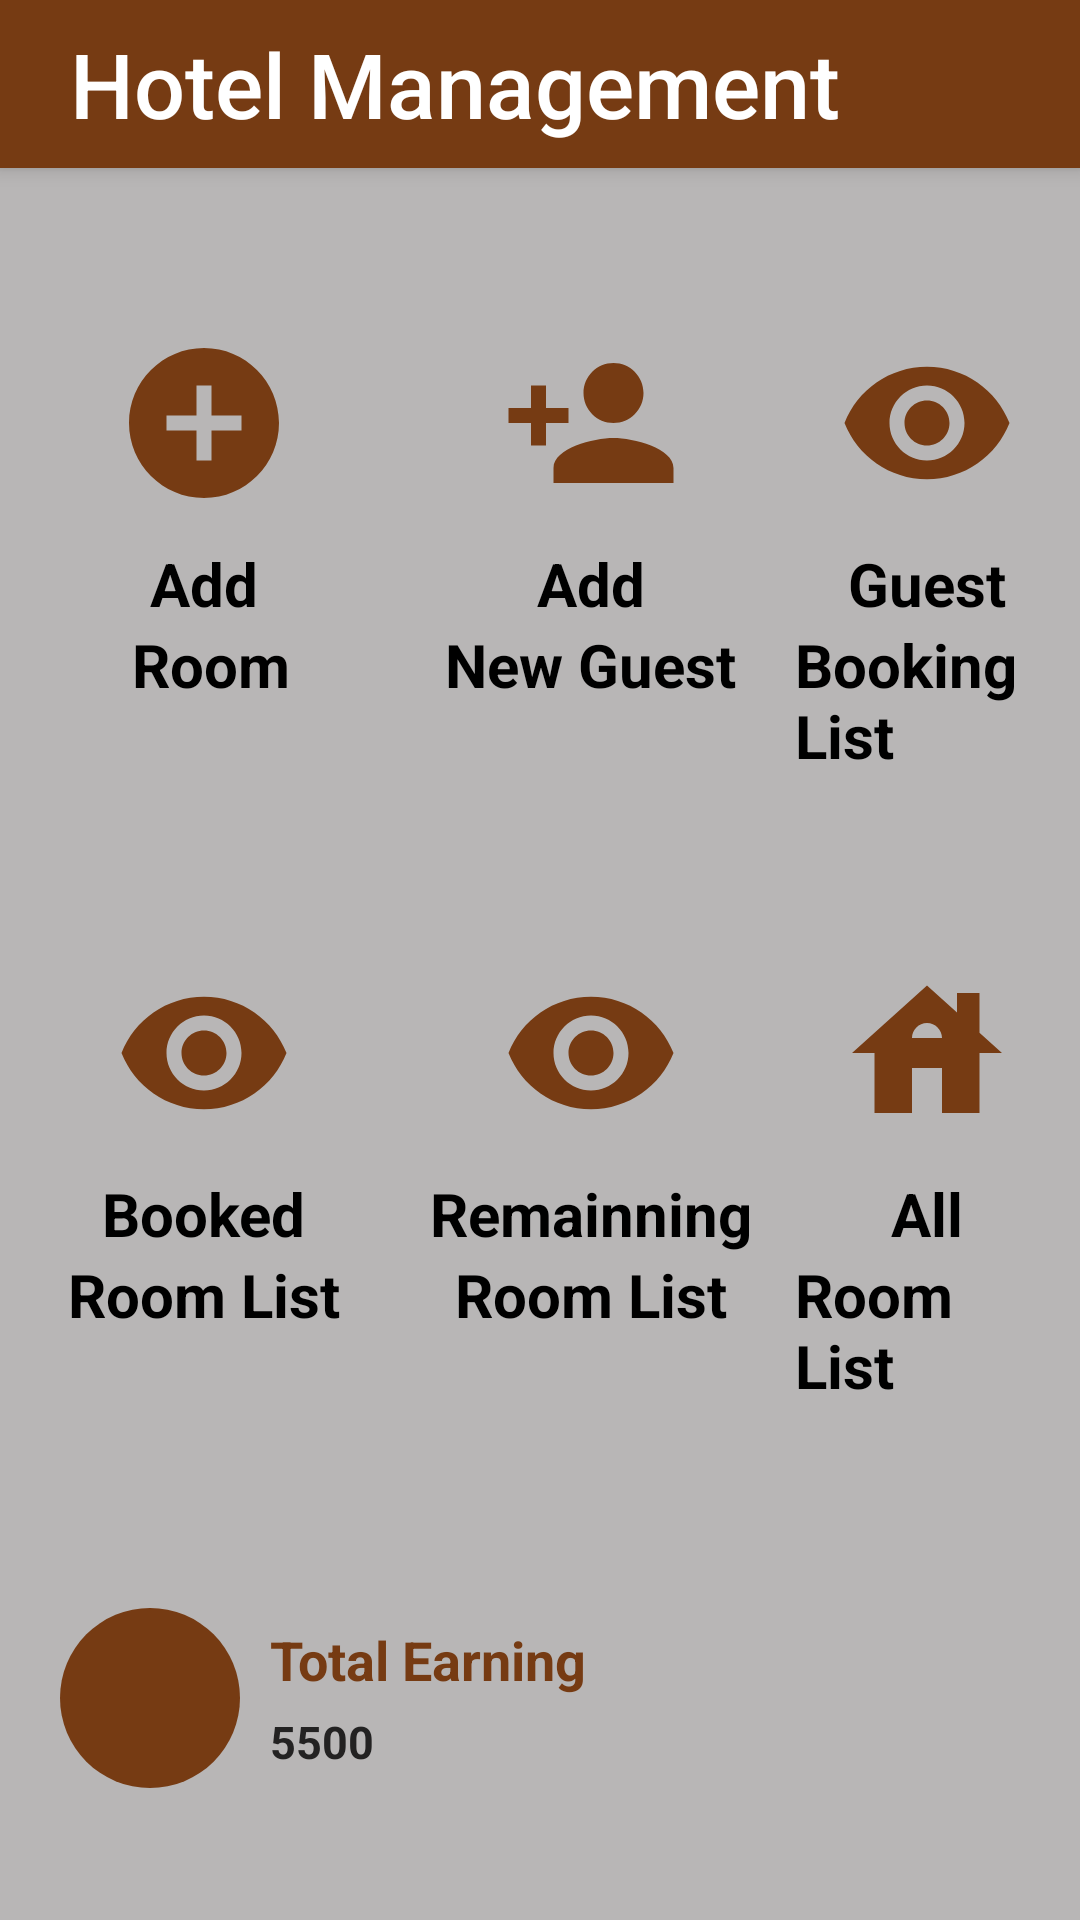

Where icons sit on this 1080 × 1920 app screen, as (x1,y1,x2,y2):
addperson: (508,363,674,483)
all room: (852,986,1002,1113)
eye: (844,366,1010,480), (121,996,287,1110), (508,996,674,1110)
